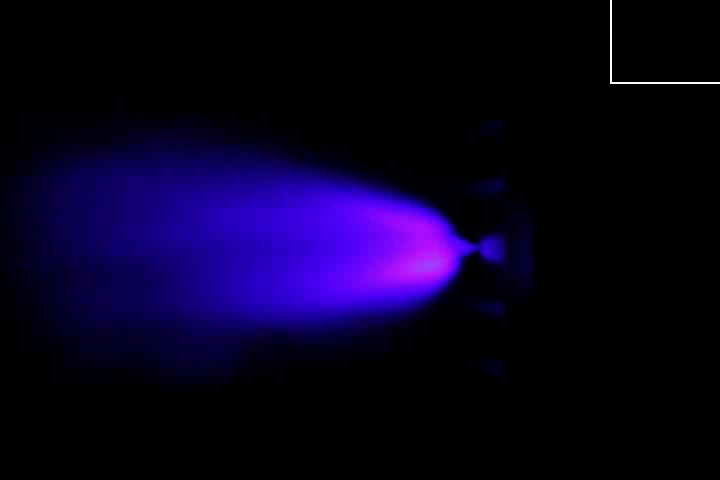burner cap: (477, 230, 508, 266)
unstable: (317, 172, 471, 318)
